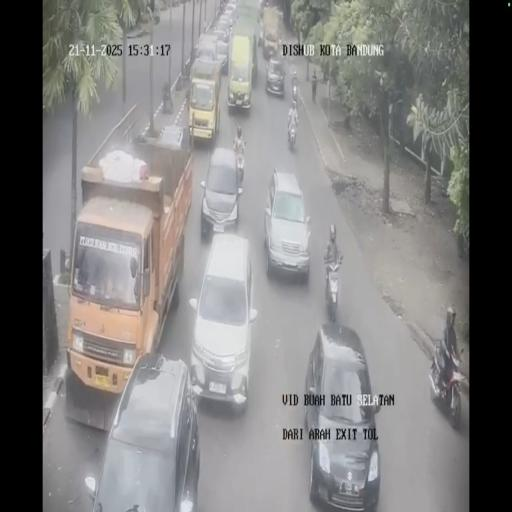3: (66, 132, 190, 412), (227, 32, 255, 112), (233, 0, 262, 42), (261, 6, 280, 58)
car: (304, 322, 380, 506), (188, 232, 257, 410), (265, 169, 311, 281), (198, 145, 244, 238), (195, 34, 220, 78), (266, 57, 286, 97), (214, 15, 234, 45), (224, 1, 238, 22), (258, 18, 264, 45), (277, 6, 283, 20)
truck: (430, 339, 463, 428), (324, 258, 342, 323), (234, 142, 246, 184), (288, 118, 298, 150), (290, 70, 298, 102)
